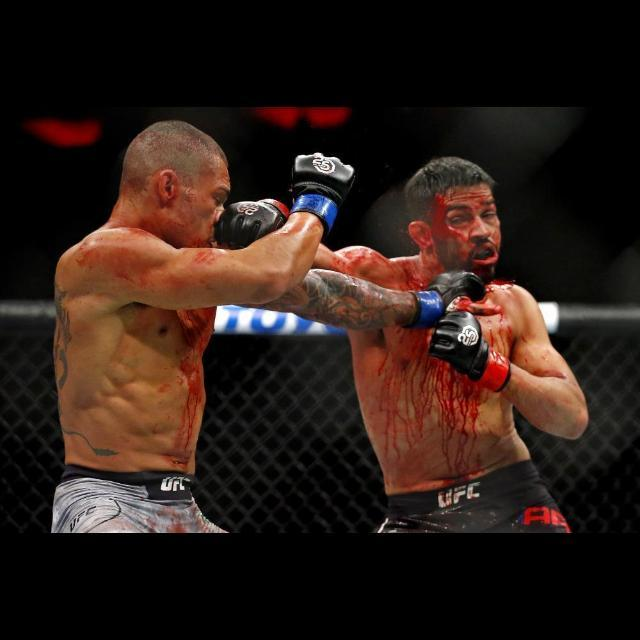blood: (356, 327, 492, 487), (69, 227, 239, 290), (115, 158, 230, 248), (166, 307, 215, 475), (429, 183, 502, 281), (327, 247, 447, 291), (486, 280, 515, 359)
